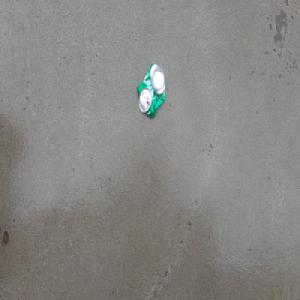SodaCan: (136, 62, 166, 119)
